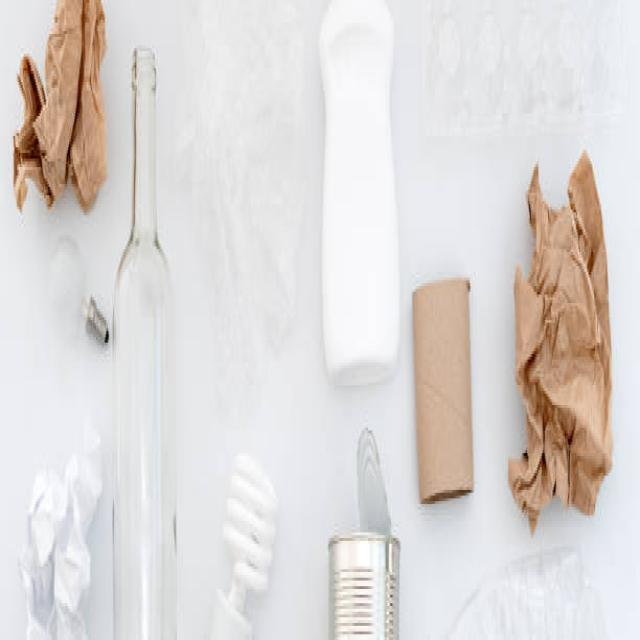cardboard: (415, 283, 481, 504)
glass: (109, 6, 193, 628)
metal: (323, 425, 403, 640)
paper: (518, 153, 604, 532), (4, 3, 108, 207)
plastic: (321, 11, 405, 408)
